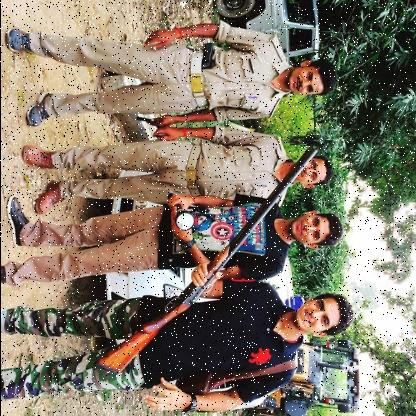rifle: (92, 144, 318, 377), (196, 42, 216, 70)
